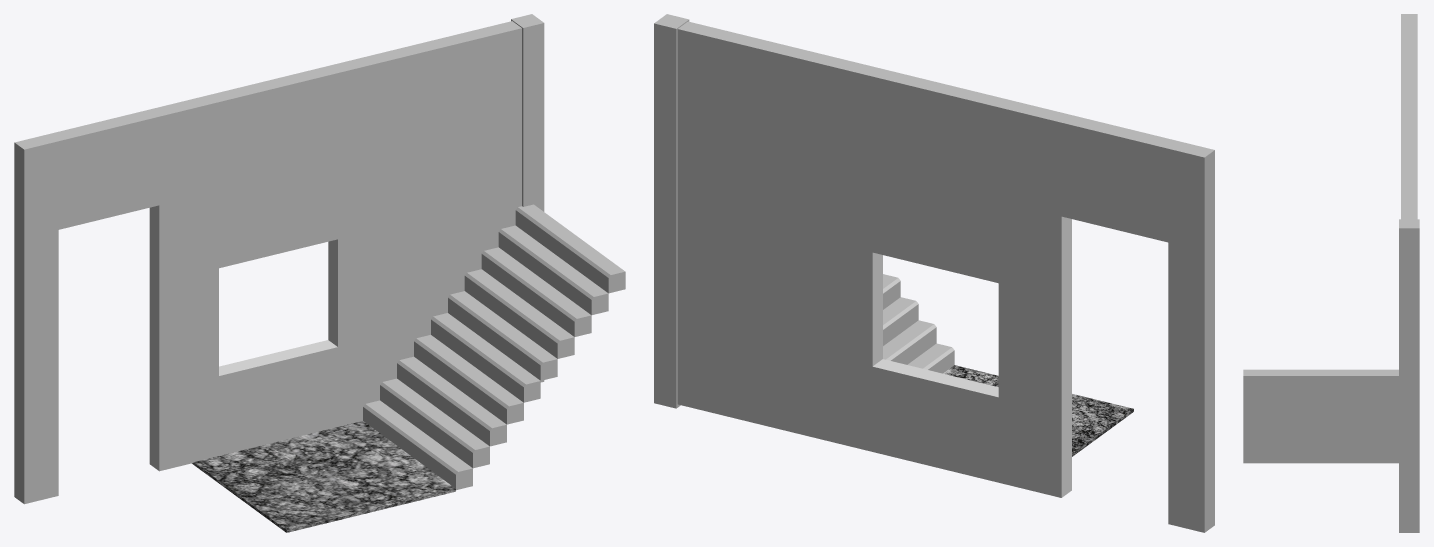
File: cenario01.fbx
3 renders of one model, left to right at view 1: azimuth 30°, elevation 25°; view 2: azimuth 150°, elevation 25°; view 3: azimuth 270°, elevation 25°, orthographic. The views are drawn at different scales.
Visible parts, largest first — view 1: Janela, Parede, Porta, Escada, Chão, Coluna; view 2: Parede, Janela, Porta, Coluna, Escada, Chão; view 3: Escada, Coluna, Porta, Janela, Parede.
Boxes of the visible parts, <box> form: Janela: <box>184,60,362,461</box>; Parede: <box>353,21,521,406</box>; Porta: <box>14,101,193,504</box>; Escada: <box>363,204,625,490</box>; Chão: <box>192,421,455,532</box>; Coluna: <box>511,14,544,382</box>; Parede: <box>677,21,855,445</box>; Janela: <box>846,62,1035,488</box>; Porta: <box>1025,106,1214,532</box>; Coluna: <box>654,14,689,408</box>; Escada: <box>883,274,954,373</box>; Chão: <box>943,365,1133,456</box>; Escada: <box>1243,369,1398,463</box>; Coluna: <box>1399,219,1419,532</box>; Porta: <box>1401,14,1417,84</box>; Janela: <box>1401,84,1417,154</box>; Parede: <box>1401,154,1417,219</box>.
Size of the model in its own units: 612 by 212 by 405.
